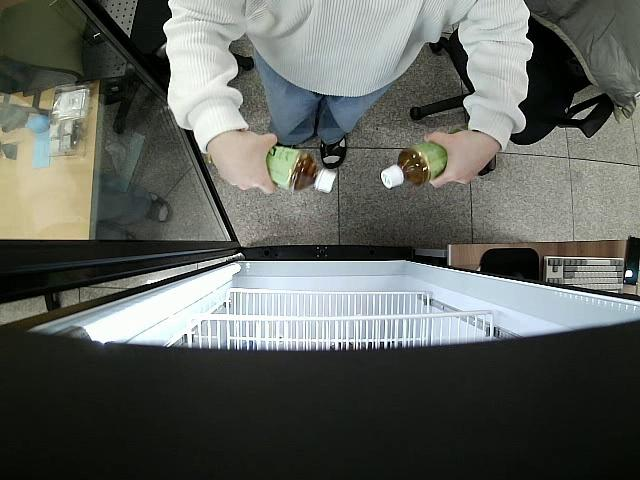00_hand: (211, 131, 279, 196), (424, 132, 492, 186)
19_17cha: (207, 134, 338, 194), (381, 139, 448, 188)
